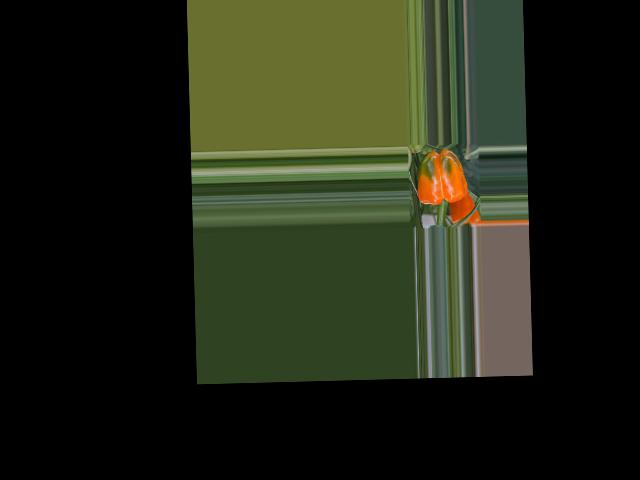bell_pepper: (409, 144, 470, 211)
